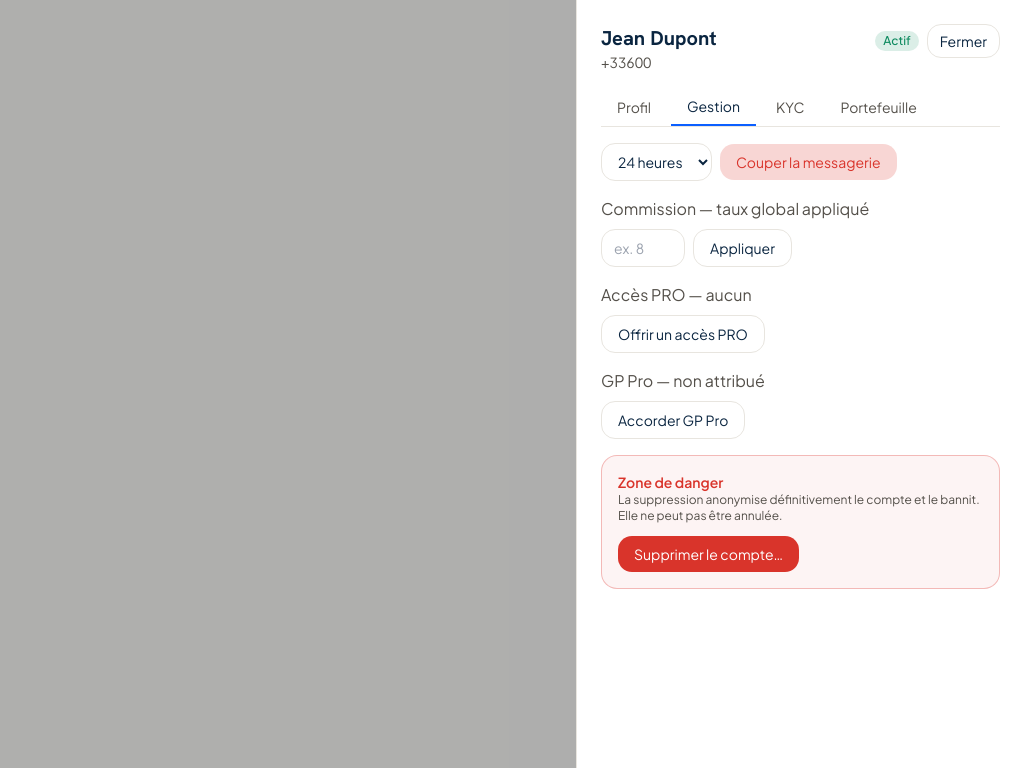
UserDetailPanel › mute: the confirm dialog requires a reason
Click the button with test id "action-mute" at x=808, y=162, box [720,144,897,180]
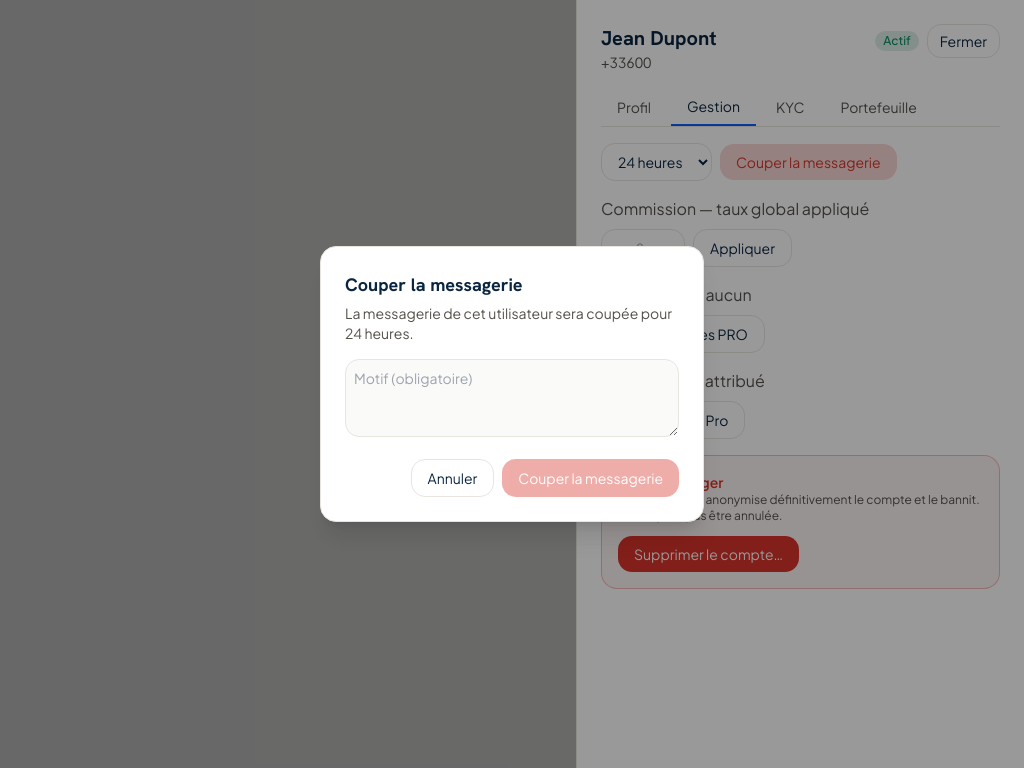
Result: the text box with test id "reason" is shown at [345,359,679,437]
Result: the button with test id "confirm" is disabled at [502,459,679,497]
